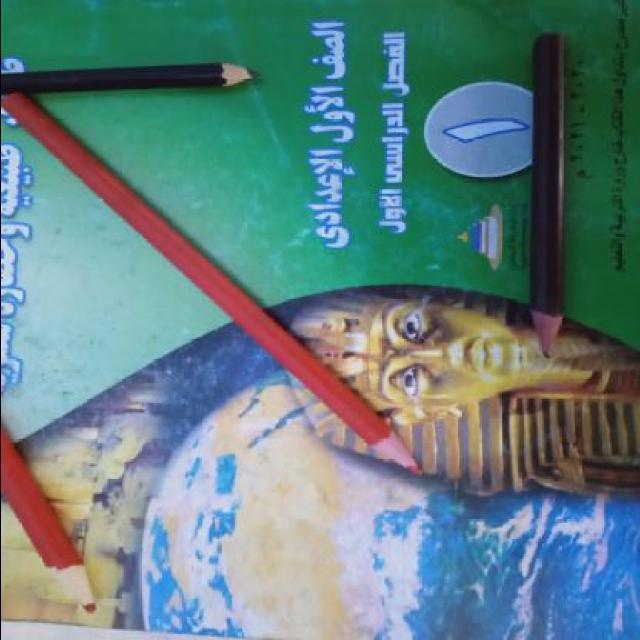pencil: (30, 548, 104, 620), (516, 298, 572, 364), (366, 429, 430, 478), (201, 58, 265, 92)
